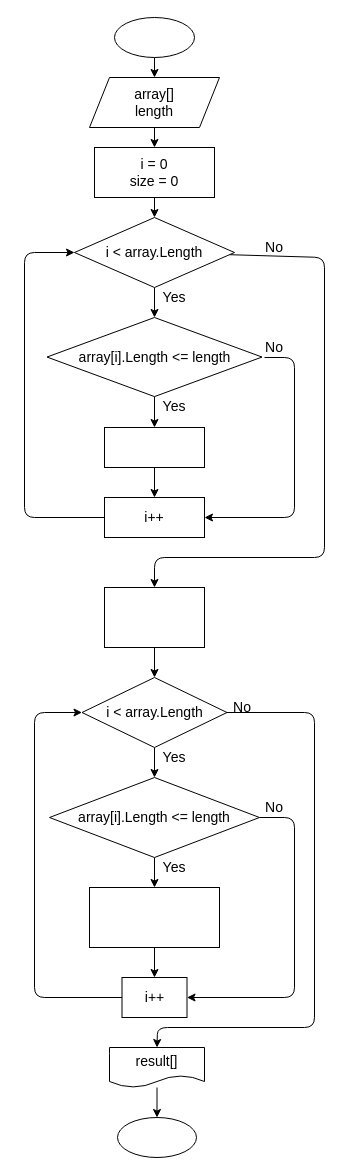
Some shapes in this 350 by 1175 pixel diagram are drawn without their labels. Each missing label, with the centre of its shape:
End: (x=156, y=1137)
result[k] = array[i] k++: (x=154, y=917)
result[size] i = 0 k = 0: (x=154, y=617)
size++: (x=154, y=447)
Start: (x=154, y=37)
